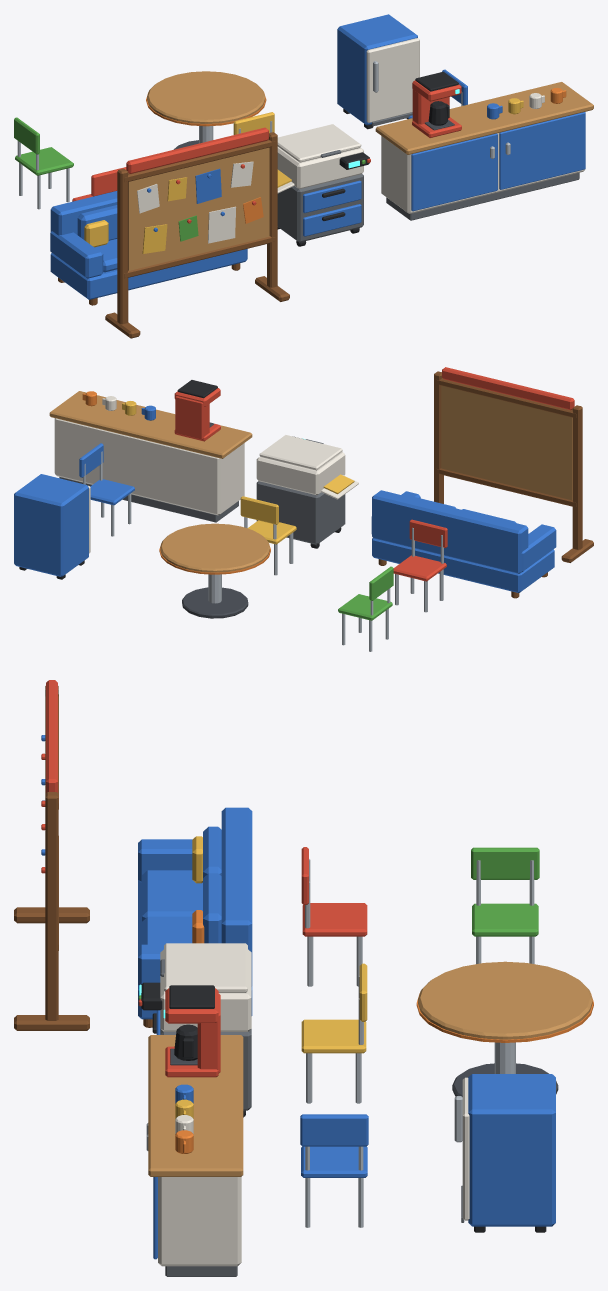
File: teachers-lounge-set.glb
3 views of the same model, one above another, from view 1: azimuth 30°, elevation 25°; view 2: azimuth 150°, elevation 25°; view 3: azimuth 270°, elevation 25° (orthographic). The views are drawn at different scales.
Parts seen in each view (by area): view 1: Pin_Cork, Counter_Top, Door_R, Door_L, Table_Top, Fridge_Body, Fridge_Door, Sofa_Base, Counter_Cabinet, Copier_Cabinet, Pin_Header, Copier_Body (+26 smaller); view 2: Pin_Cork, Counter_Cabinet, Sofa_Back, Fridge_Body, Counter_Top, Table_Top, Copier_Cabinet, Sofa_Base, Copier_Body, Pin_Header, Copier_Lid, Pin_Leg0 (+17 smaller); view 3: Fridge_Body, Table_Top, Counter_Top, Counter_Cabinet, Sofa_Back, Copier_Lid, Pin_Leg1, Sofa_SeatCushion0, Chair_Blue_Back, Chair_Green_Seat, Chair_Yellow_Seat, Chair_Green_Back (+19 smaller).
Part boxes in pixels (x1=…): Pin_Cork: x1=128, y1=147, x2=269, y2=270; Counter_Top: x1=375, y1=82, x2=593, y2=154; Door_R: x1=499, y1=112, x2=585, y2=189; Door_L: x1=411, y1=133, x2=497, y2=211; Table_Top: x1=147, y1=71, x2=265, y2=123; Fridge_Body: x1=337, y1=14, x2=417, y2=125; Fridge_Door: x1=366, y1=38, x2=419, y2=122; Sofa_Base: x1=50, y1=249, x2=247, y2=299; Counter_Cabinet: x1=381, y1=112, x2=585, y2=213; Copier_Cabinet: x1=277, y1=174, x2=363, y2=242; Pin_Header: x1=126, y1=127, x2=268, y2=173; Copier_Body: x1=277, y1=147, x2=363, y2=189; Pin_Cork: x1=441, y1=385, x2=572, y2=500; Counter_Cabinet: x1=54, y1=418, x2=244, y2=515; Sofa_Back: x1=372, y1=490, x2=528, y2=573; Fridge_Body: x1=14, y1=474, x2=88, y2=576; Counter_Top: x1=49, y1=391, x2=252, y2=458; Table_Top: x1=160, y1=523, x2=269, y2=572; Copier_Cabinet: x1=256, y1=481, x2=345, y2=544; Sofa_Base: x1=372, y1=538, x2=554, y2=592; Copier_Body: x1=256, y1=452, x2=345, y2=495; Pin_Header: x1=442, y1=367, x2=574, y2=410; Copier_Lid: x1=259, y1=435, x2=342, y2=470; Pin_Leg0: x1=572, y1=405, x2=582, y2=549; Fridge_Body: x1=468, y1=1074, x2=555, y2=1226; Table_Top: x1=418, y1=961, x2=592, y2=1039; Counter_Top: x1=148, y1=1035, x2=243, y2=1176; Counter_Cabinet: x1=158, y1=1177, x2=241, y2=1266; Sofa_Back: x1=221, y1=807, x2=252, y2=985; Copier_Lid: x1=164, y1=943, x2=247, y2=992; Pin_Leg1: x1=45, y1=792, x2=58, y2=1020; Sofa_SeatCushion0: x1=142, y1=870, x2=202, y2=921; Chair_Blue_Back: x1=300, y1=1114, x2=368, y2=1146; Chair_Green_Seat: x1=472, y1=903, x2=538, y2=936; Chair_Yellow_Seat: x1=301, y1=1019, x2=366, y2=1053; Chair_Green_Back: x1=471, y1=847, x2=539, y2=879.
Bounding box in the file's own units: 22.92 × 7.1 × 15.24.
